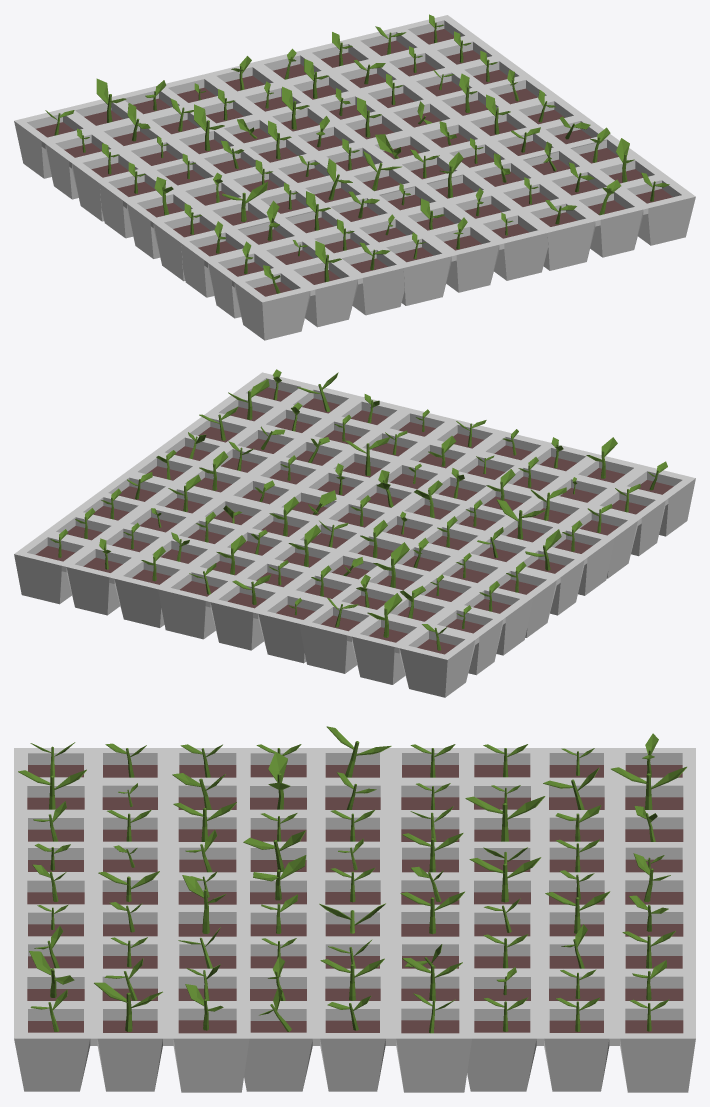
File: SeedlingTray.fbx
3 renders of one model, top to bottom at view 1: azimuth 30°, elevation 25°; view 2: azimuth 150°, elevation 25°; view 3: azimuth 270°, elevation 25°, orthographic. The views are drawn at different scales.
Visible parts, largest first — view 1: SeedleingsTray9, Seedling82; view 2: SeedleingsTray9, Seedling82; view 3: SeedleingsTray9, Seedling82.
Boxes of the visible parts, x1,y1,x2,y2 form: SeedleingsTray9: (14, 15, 695, 340); Seedling82: (45, 14, 669, 293); SeedleingsTray9: (14, 372, 695, 697); Seedling82: (50, 369, 667, 650); SeedleingsTray9: (14, 748, 695, 1092); Seedling82: (18, 726, 686, 1033).
Size of the model in its own units: 2.59 by 0.3937 by 2.57.
